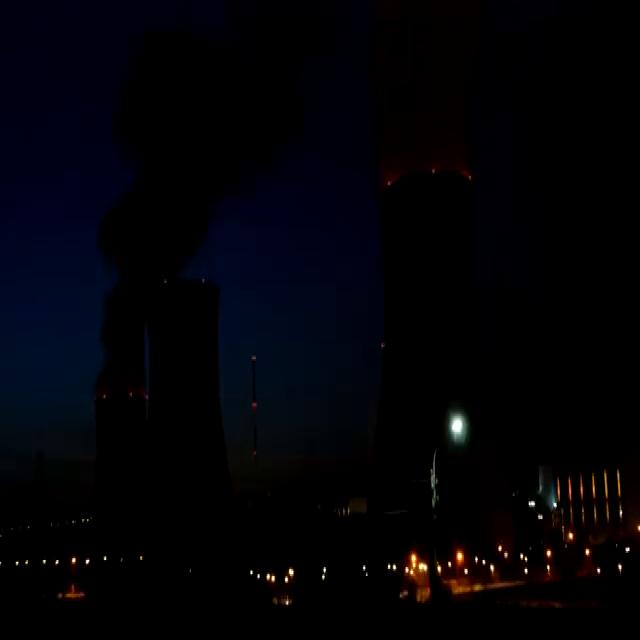smoke: (100, 23, 247, 380), (380, 0, 479, 180)
